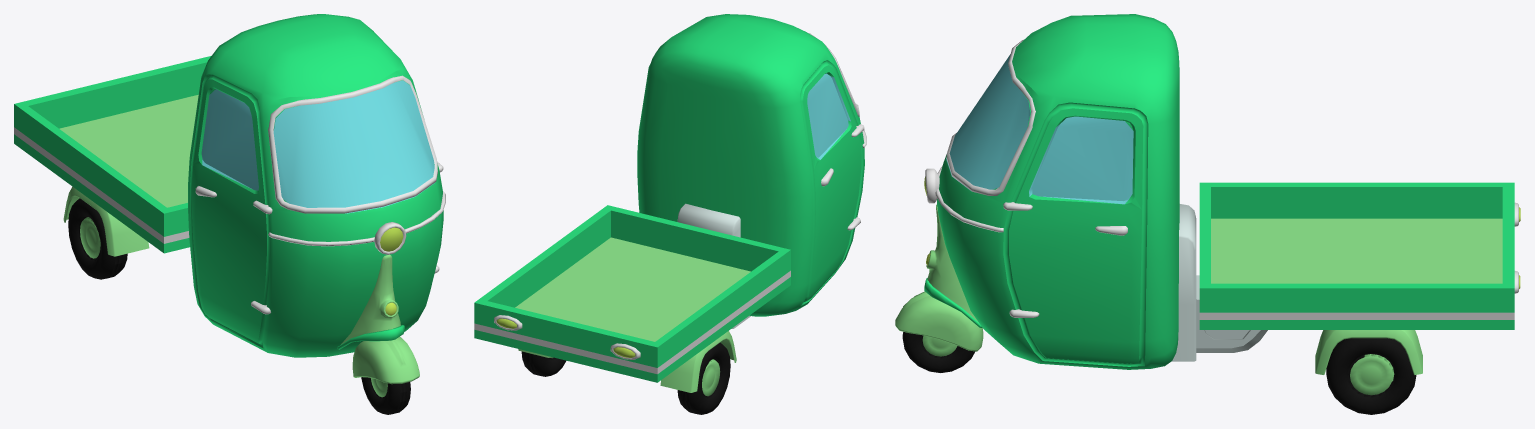
Rendered from tricycle.fbx.
3 views of the same model, side by side, from view 1: azimuth 30°, elevation 25°; view 2: azimuth 150°, elevation 25°; view 3: azimuth 270°, elevation 25° (orthographic). The views are drawn at different scales.
Visible parts, largest first — view 1: Vehicle02_BodyMesh, Vehicle02_WheelMesh.001, Vehicle02_FrontWheelCoverMesh, Vehicle02_WheelMesh; view 2: Vehicle02_BodyMesh, Vehicle02_WheelMesh.001, Vehicle02_WheelMesh.002; view 3: Vehicle02_BodyMesh, Vehicle02_WheelMesh.002, Vehicle02_FrontWheelCoverMesh, Vehicle02_WheelMesh.
Boxes of the visible parts, x1=… form: Vehicle02_BodyMesh: x1=14, y1=14, x2=445, y2=357; Vehicle02_WheelMesh.001: x1=68, y1=198, x2=127, y2=279; Vehicle02_FrontWheelCoverMesh: x1=352, y1=336, x2=419, y2=384; Vehicle02_WheelMesh: x1=361, y1=377, x2=410, y2=414; Vehicle02_BodyMesh: x1=474, y1=14, x2=866, y2=392; Vehicle02_WheelMesh.001: x1=677, y1=342, x2=730, y2=414; Vehicle02_WheelMesh.002: x1=521, y1=351, x2=566, y2=376; Vehicle02_BodyMesh: x1=924, y1=14, x2=1520, y2=374; Vehicle02_WheelMesh.002: x1=1326, y1=338, x2=1416, y2=414; Vehicle02_FrontWheelCoverMesh: x1=895, y1=291, x2=983, y2=351; Vehicle02_WheelMesh: x1=902, y1=332, x2=975, y2=372.
Size of the model in its own units: 1.01 by 1.47 by 2.47.
